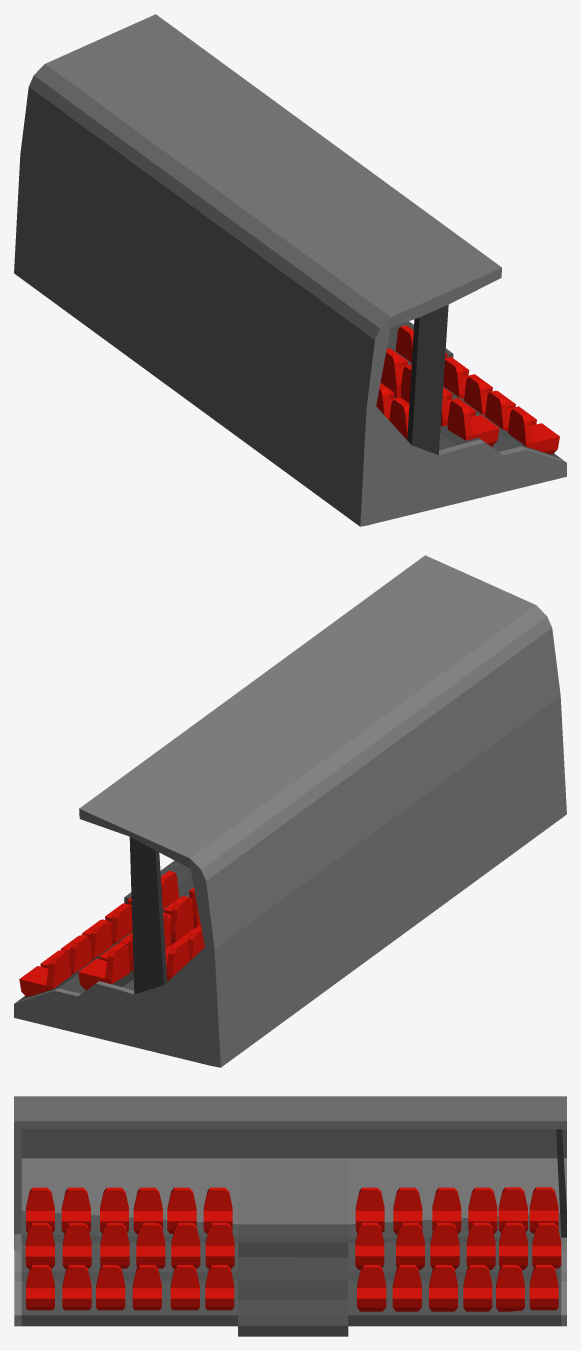
Rendered from Tribune2.fbx.
3 renders of one model, top to bottom at view 1: azimuth 30°, elevation 25°; view 2: azimuth 150°, elevation 25°; view 3: azimuth 270°, elevation 25°, orthographic. The views are drawn at different scales.
Parts seen in each view (by area): view 1: Cube; view 2: Cube; view 3: Cube.
Part boxes in pixels (x1,y1,x2,y2): Cube: (14, 14, 566, 526); Cube: (14, 555, 566, 1067); Cube: (14, 1096, 566, 1336).
Bounding box in the file's own units: 1477 × 1361 × 3794.
